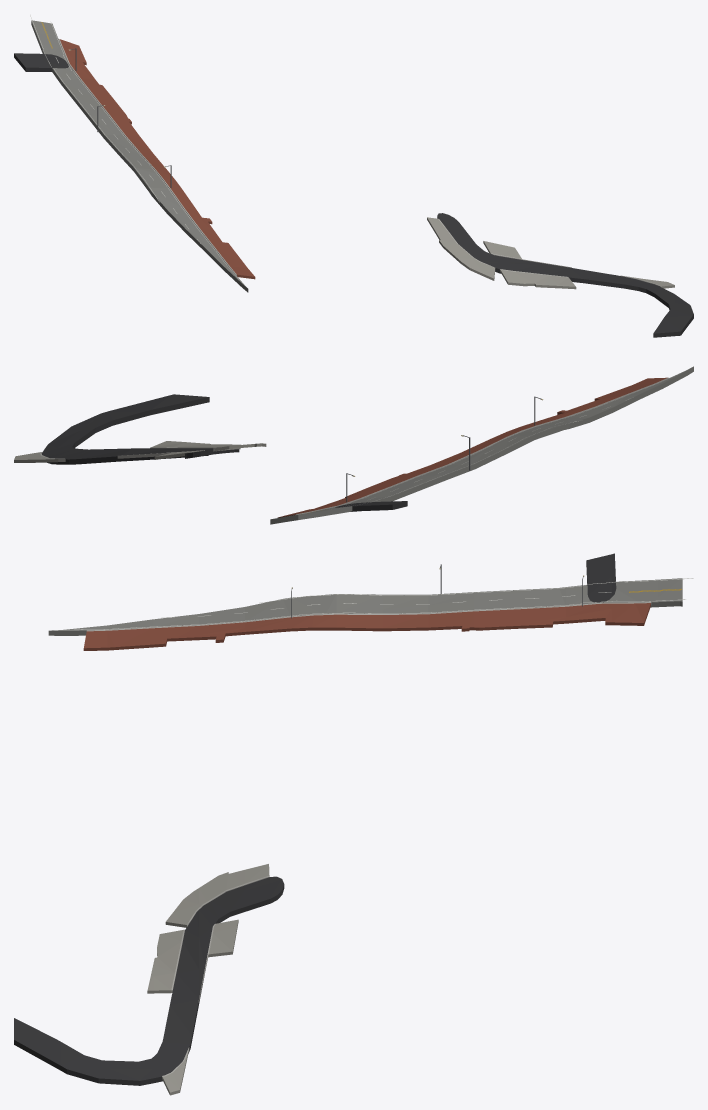
3 views of the same model, one above another, from view 1: azimuth 30°, elevation 25°; view 2: azimuth 150°, elevation 25°; view 3: azimuth 270°, elevation 25° (orthographic). The views are drawn at different scales.
Bounding box in the file's own units: 146 × 63.75 × 148.
